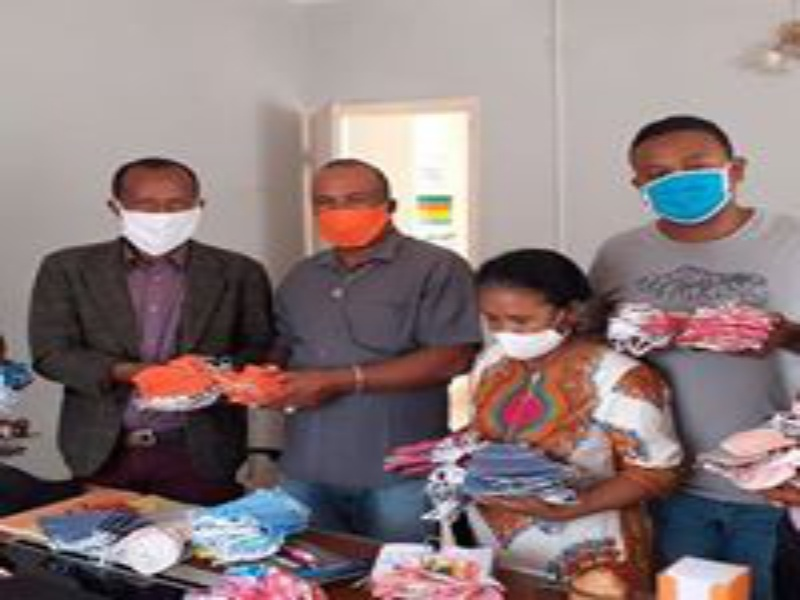ManaoArotava: (621, 112, 750, 236), (466, 251, 585, 373), (97, 151, 216, 267), (296, 152, 398, 262)
